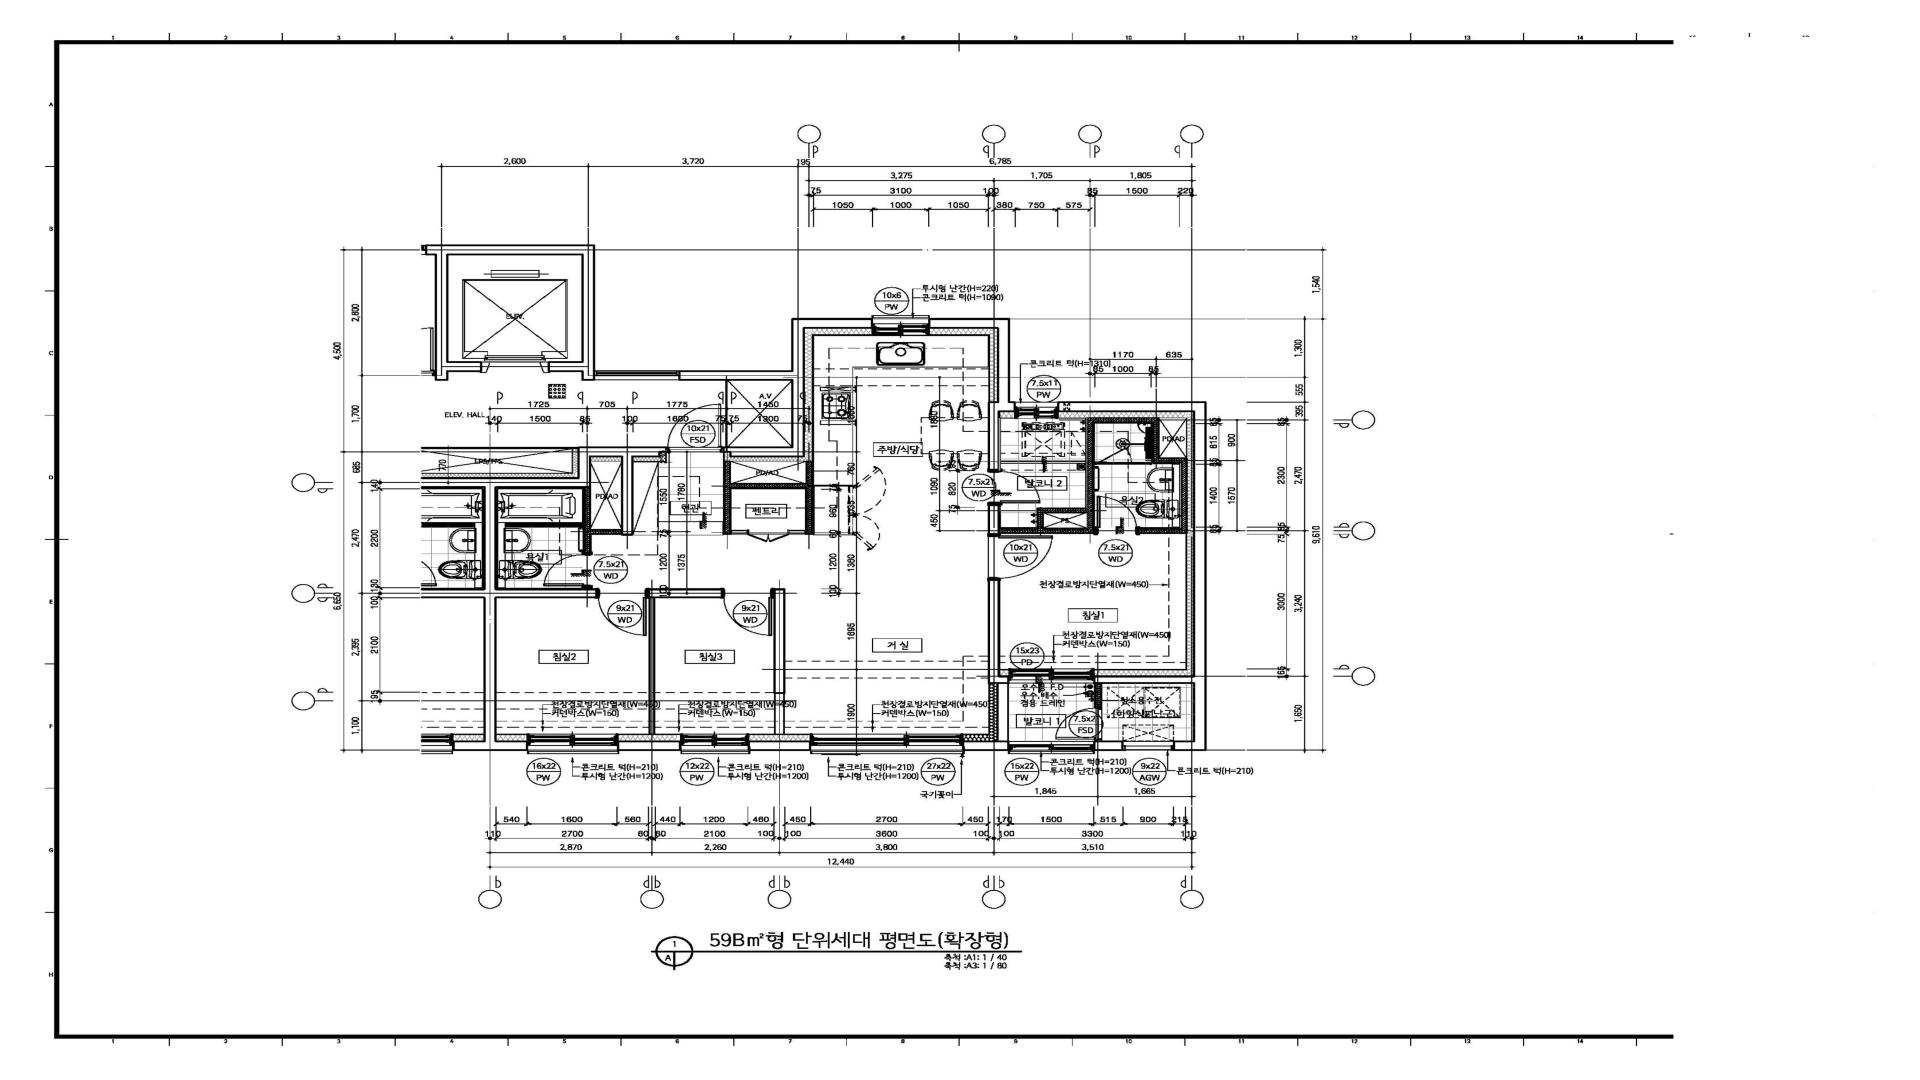background: (1, 0, 1920, 1080)
door: (988, 534, 1055, 580), (666, 404, 724, 454), (595, 588, 649, 637), (721, 588, 773, 637), (1095, 496, 1141, 535), (986, 471, 1042, 504), (543, 553, 593, 588), (1095, 448, 1154, 464), (746, 529, 789, 542)
wall: (1192, 413, 1207, 741), (483, 477, 498, 741), (988, 580, 1009, 684), (791, 318, 806, 458), (434, 245, 448, 381), (773, 588, 786, 735), (582, 244, 595, 381), (1059, 401, 1207, 413), (448, 244, 582, 256), (997, 328, 1015, 411), (678, 371, 791, 381), (497, 588, 596, 599), (621, 456, 634, 535), (498, 477, 591, 488), (1093, 675, 1193, 684), (649, 597, 655, 735), (930, 318, 1010, 328), (1087, 423, 1095, 527), (988, 402, 1000, 471), (649, 588, 721, 599), (724, 447, 793, 458), (804, 318, 872, 328), (591, 447, 667, 456), (997, 684, 1009, 741), (806, 462, 815, 534), (1001, 527, 1096, 534), (724, 462, 732, 534), (618, 741, 680, 750), (749, 741, 810, 750), (584, 488, 592, 553), (731, 483, 806, 489), (1180, 458, 1187, 529), (578, 447, 591, 479), (964, 741, 1009, 750), (421, 447, 578, 450), (483, 741, 526, 750), (988, 505, 1001, 534), (547, 361, 582, 372), (448, 361, 483, 372), (1174, 741, 1207, 752), (1087, 418, 1153, 423), (1153, 417, 1160, 458), (1095, 741, 1124, 752), (1036, 508, 1087, 513), (1141, 529, 1187, 534), (1093, 683, 1102, 708), (592, 529, 621, 535), (725, 381, 728, 447), (1154, 458, 1182, 463), (1036, 513, 1044, 527), (732, 530, 748, 535), (789, 530, 806, 534)
window: (810, 733, 964, 758), (526, 735, 618, 758), (679, 733, 749, 758), (1009, 669, 1093, 683), (872, 315, 930, 335), (1007, 741, 1095, 754), (1014, 401, 1059, 419), (595, 371, 678, 380), (1124, 740, 1174, 752)
